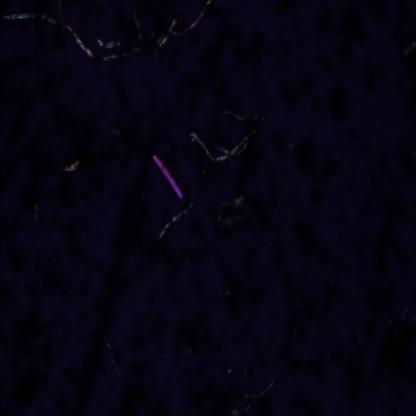Microfibre: (152, 155, 186, 199)
